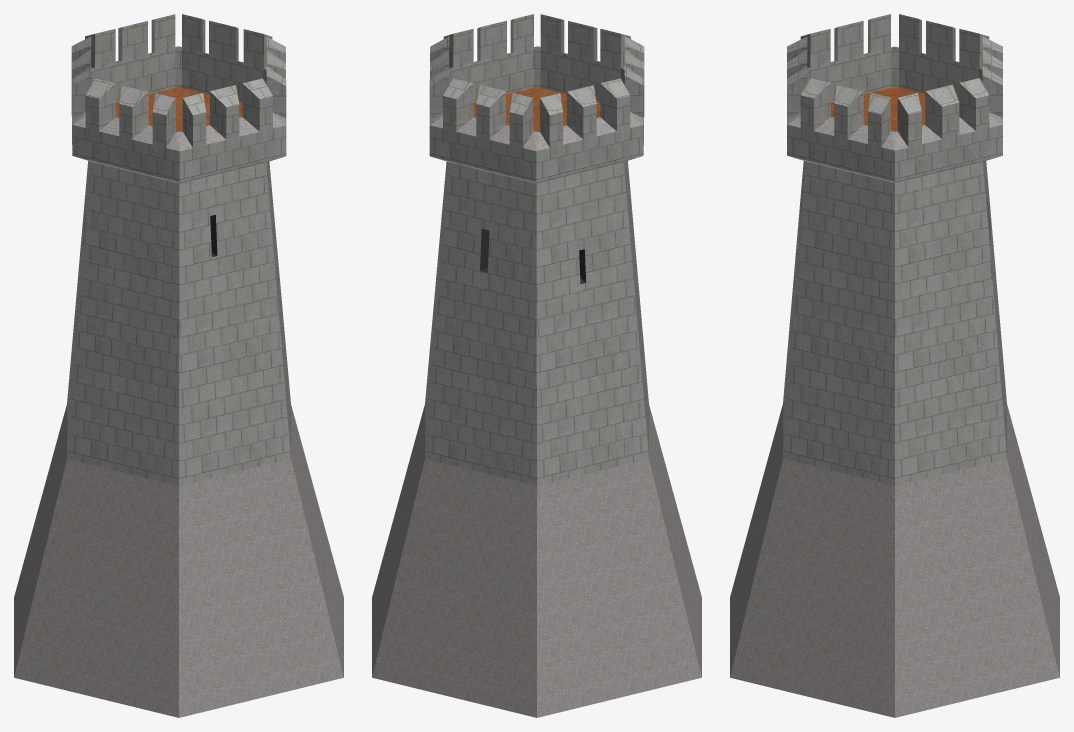
File: tower.dae
The picture shows the model from 3 angles, left to right: view 1: azimuth 30°, elevation 25°; view 2: azimuth 150°, elevation 25°; view 3: azimuth 270°, elevation 25°; orthographic projection.
Visible parts, largest first — view 1: Model; view 2: Model; view 3: Model.
Boxes of the visible parts, box(x1,y1,x2,y2) form: Model: box(14, 14, 343, 717); Model: box(372, 14, 701, 717); Model: box(730, 14, 1059, 717).
Bounding box in the file's own units: 163 × 141 × 275.
